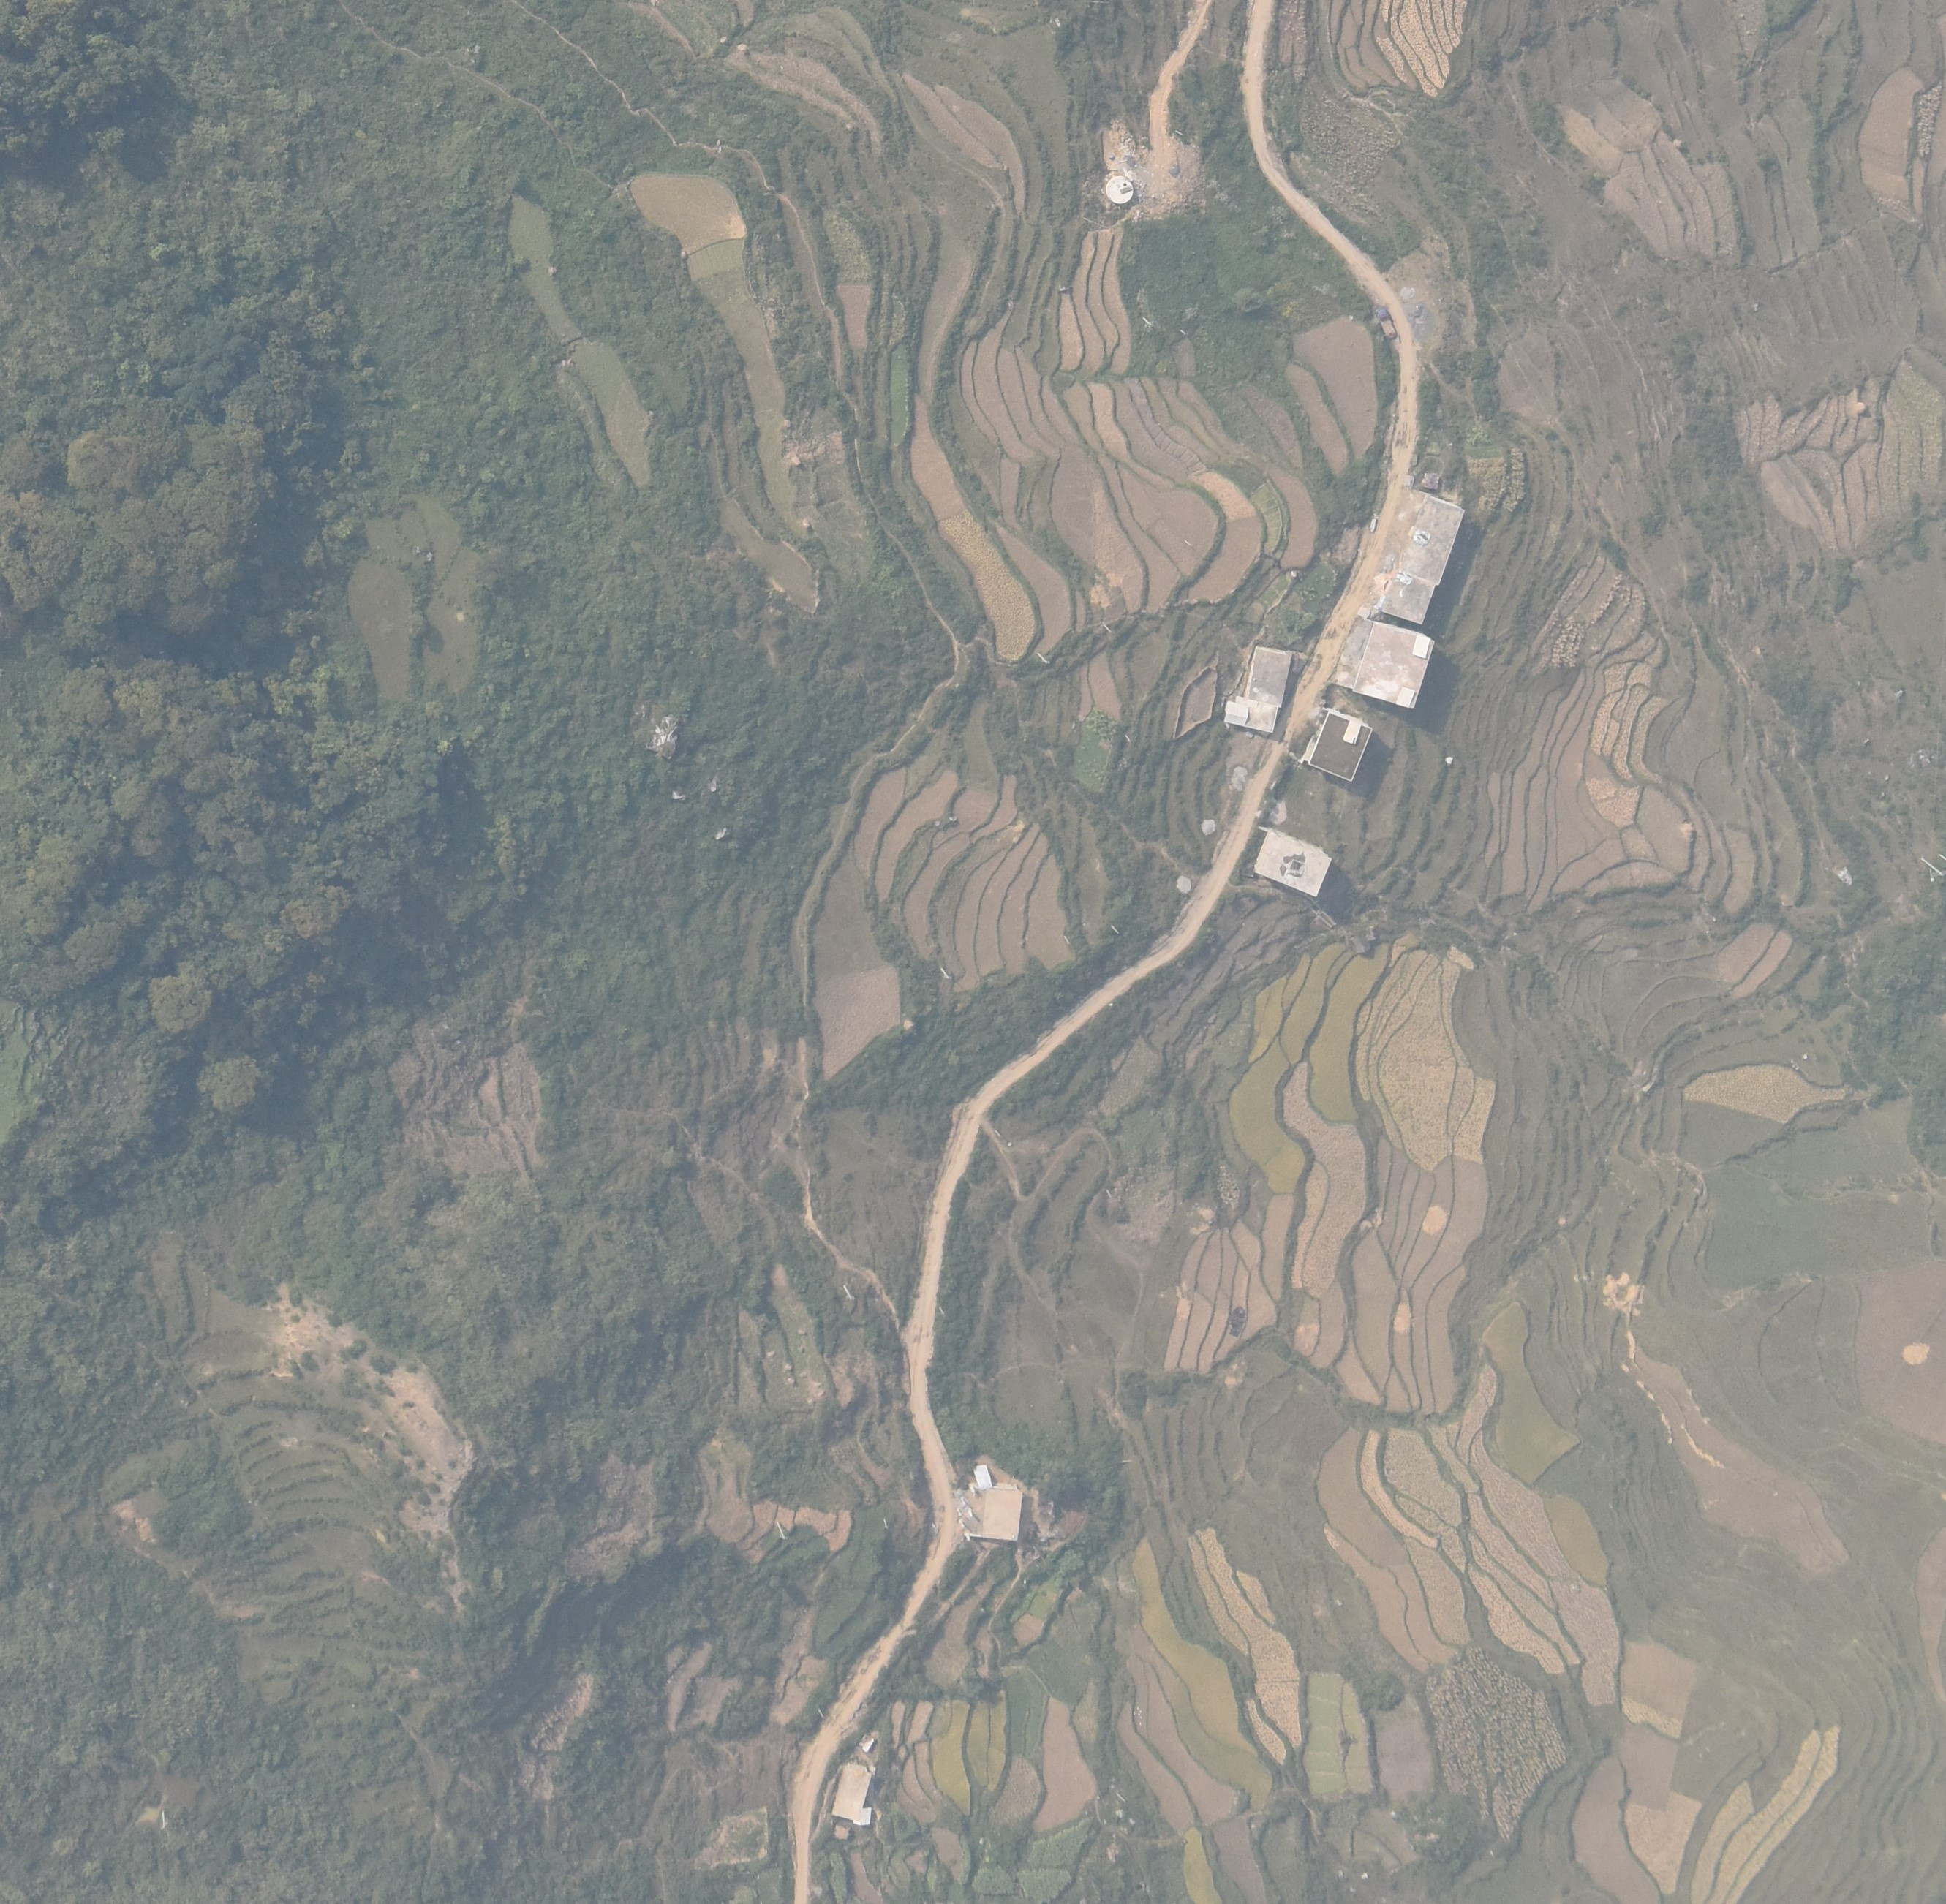building: (1350, 623, 1436, 709), (1398, 496, 1464, 586), (1223, 647, 1290, 733), (1253, 831, 1332, 896), (1308, 712, 1373, 782), (969, 1484, 1022, 1543), (1378, 574, 1433, 626), (831, 1764, 875, 1826)
cable-tower: (842, 1284, 854, 1303), (775, 1522, 785, 1541), (1036, 653, 1049, 665), (1141, 316, 1152, 327), (940, 968, 951, 979), (1110, 923, 1120, 934), (938, 1305, 946, 1318), (816, 1707, 823, 1720), (1173, 129, 1185, 137), (882, 1518, 888, 1532), (1104, 624, 1112, 633), (1124, 733, 1131, 743), (1064, 935, 1070, 945), (1183, 539, 1191, 545), (1180, 329, 1187, 336)
vehicle: (1378, 309, 1398, 339)
well: (1105, 176, 1134, 204)
